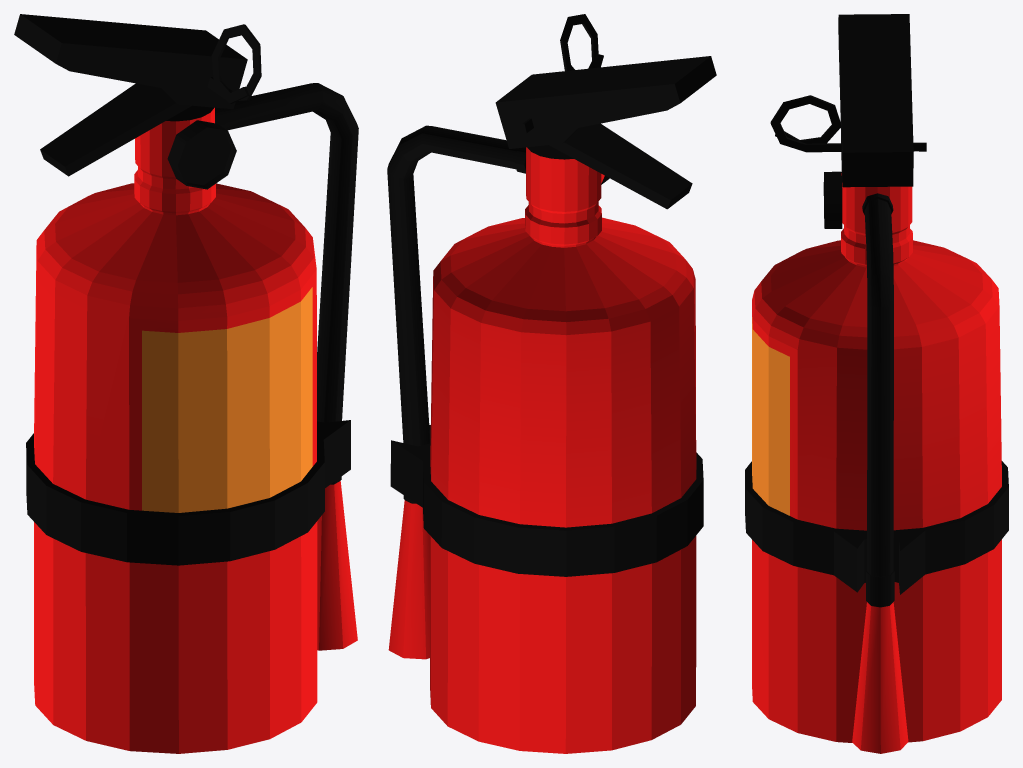
File: Fire Extinguisher.fbx
3 views of the same model, side by side, from view 1: azimuth 30°, elevation 25°; view 2: azimuth 150°, elevation 25°; view 3: azimuth 270°, elevation 25° (orthographic). The views are drawn at different scales.
Visible parts, largest first — view 1: Node 0; view 2: Node 0; view 3: Node 0.
Part boxes in pixels (x1,y1,x2,y2): Node 0: [14, 14, 358, 753]; Node 0: [387, 14, 716, 753]; Node 0: [745, 14, 1008, 753].
Bounding box in the file's own units: 0.235 × 0.6076 × 0.2967.
